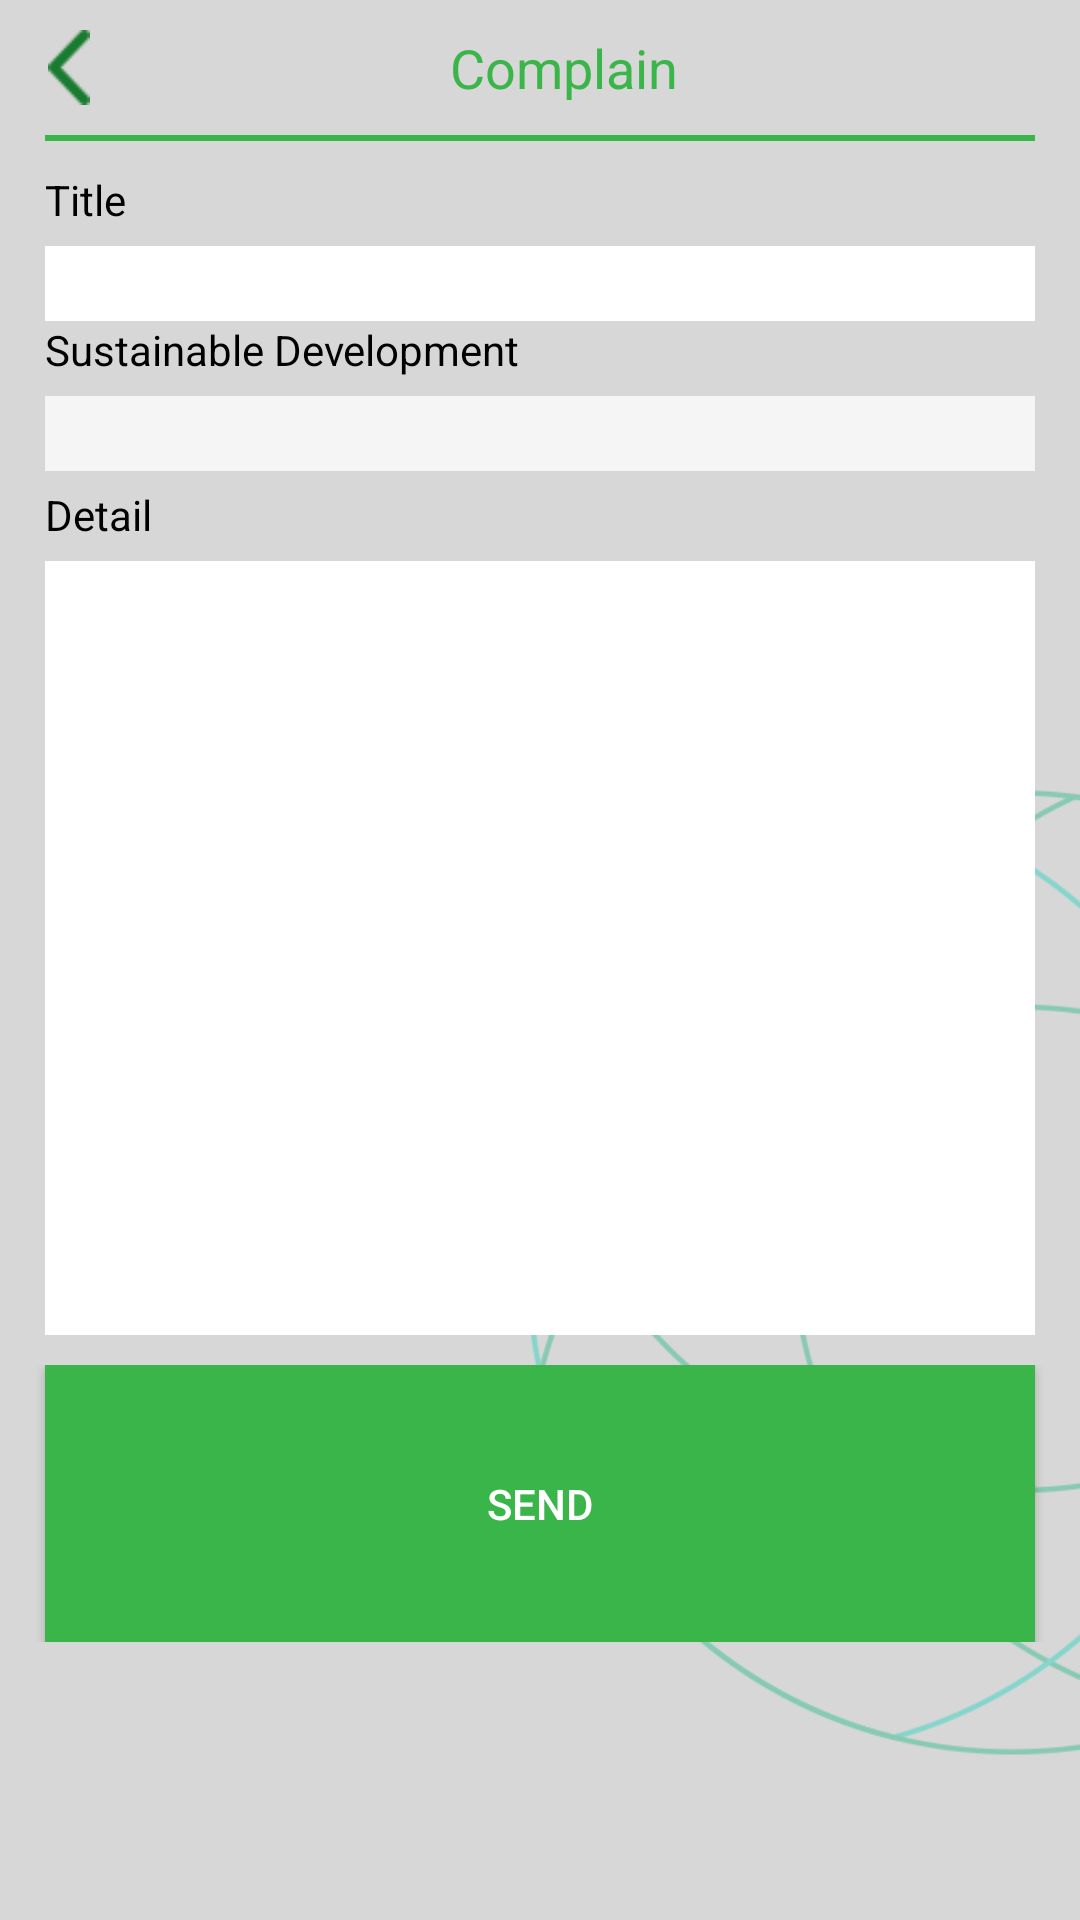

Locate icon controls on the screen. Image size 1080w x 1920h, boxes as (x1, y1, x2, y2).
btleft: (48, 30, 90, 105)
